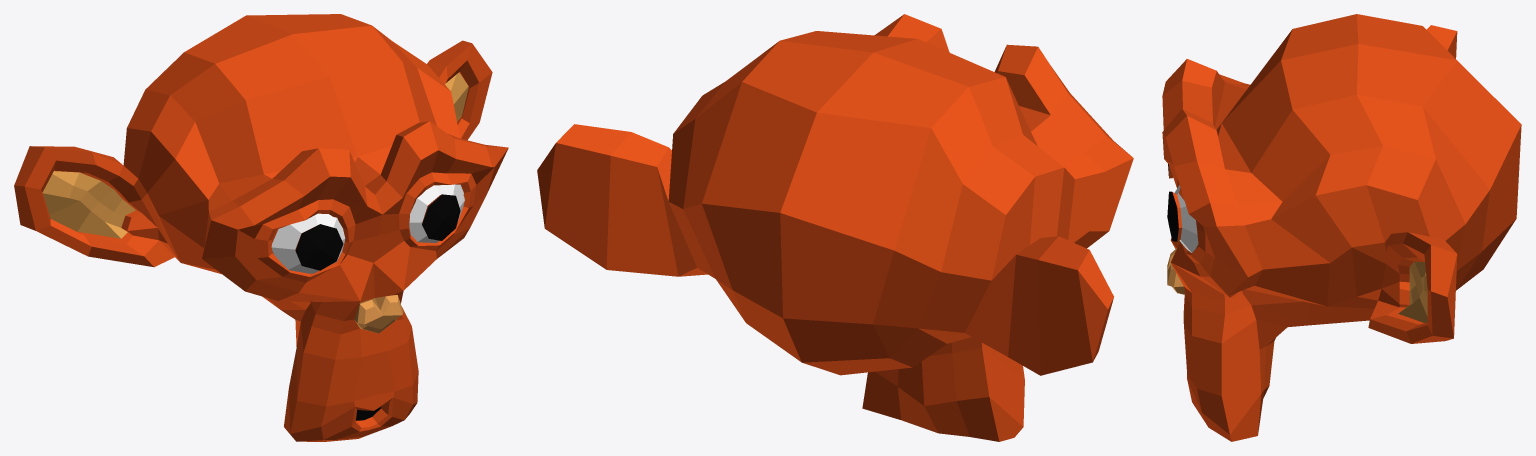
The model's file is monkeyHead.glb.
The picture shows the model from 3 angles, left to right: view 1: azimuth 30°, elevation 25°; view 2: azimuth 150°, elevation 25°; view 3: azimuth 270°, elevation 25°; orthographic projection. The views are drawn at different scales.
Parts seen in each view (by area): view 1: Suzanne; view 2: Suzanne; view 3: Suzanne.
Boxes of the visible parts, <box> form: Suzanne: <box>14,14,508,441</box>; Suzanne: <box>537,14,1133,441</box>; Suzanne: <box>1162,14,1521,441</box>.
Bounding box in the file's own units: 2.73 × 1.97 × 1.7.
